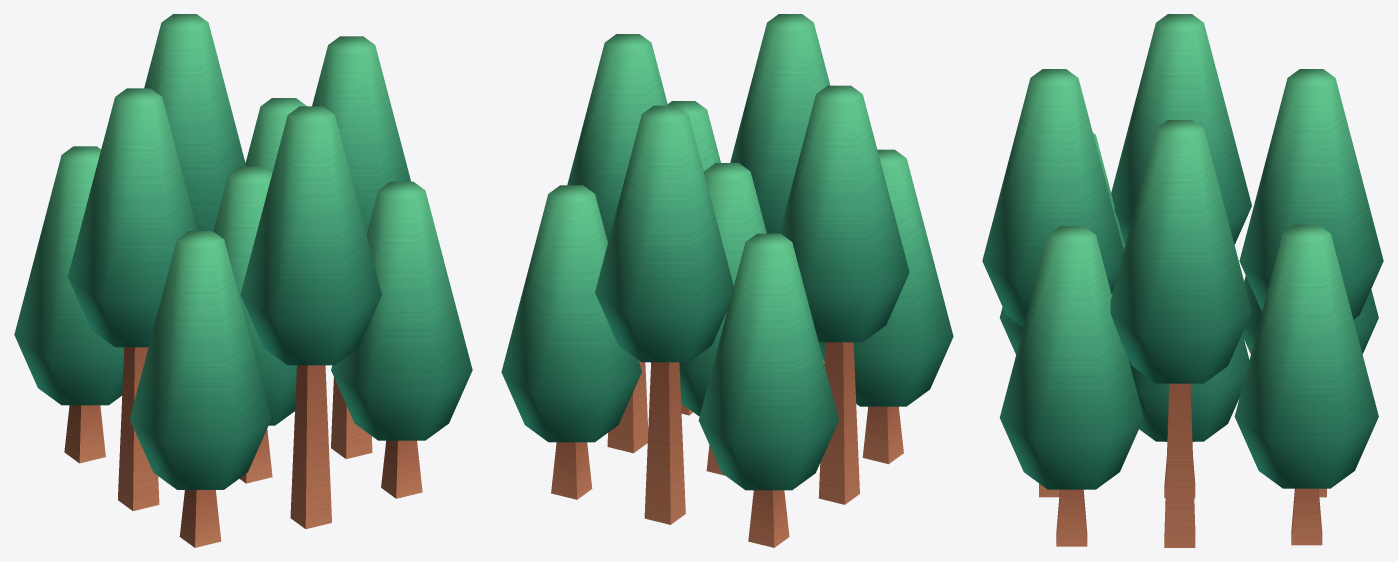
Rendered from large_park.glb.
3 renders of one model, left to right at view 1: azimuth 30°, elevation 25°; view 2: azimuth 150°, elevation 25°; view 3: azimuth 270°, elevation 25°, orthographic. The views are drawn at different scales.
Parts seen in each view (by area): view 1: forest; view 2: forest; view 3: forest.
Part boxes in pixels (left/top/right/bottom): forest: left=14, top=14, right=472, bottom=547; forest: left=501, top=14, right=953, bottom=547; forest: left=982, top=14, right=1383, bottom=547.
Bounding box in the file's own units: 0.6323 × 0.767 × 0.6761.
Materials: 2 (2 with a texture image).
